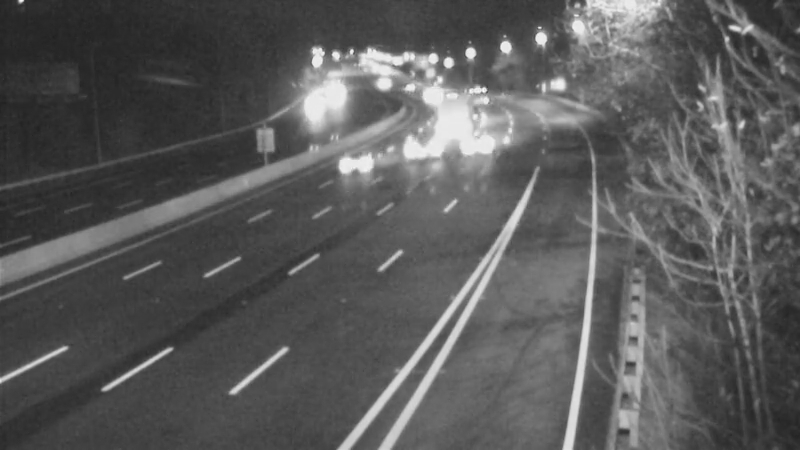vehicle: (316, 123, 396, 203), (356, 60, 406, 110), (384, 63, 434, 113), (451, 69, 501, 119), (409, 71, 459, 121), (432, 89, 482, 139), (451, 119, 501, 169), (399, 125, 449, 175), (290, 81, 340, 131)
